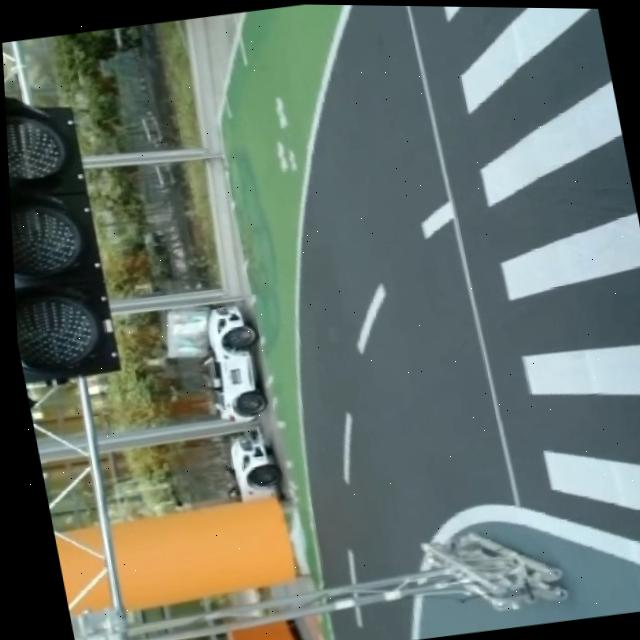traffic-light: (4, 81, 128, 395)
